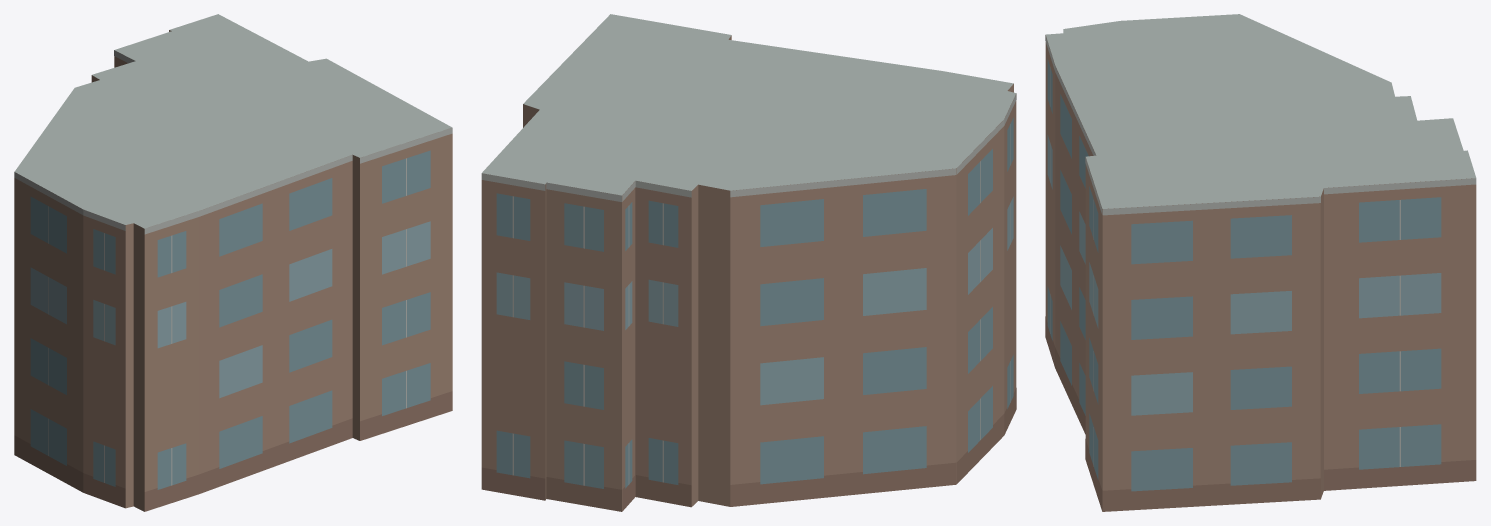
Rendered from survey-upis-33041925.glb.
The picture shows the model from 3 angles, left to right: view 1: azimuth 30°, elevation 25°; view 2: azimuth 150°, elevation 25°; view 3: azimuth 270°, elevation 25°; orthographic projection. The views are drawn at different scales.
Parts seen in each view (by area): view 1: survey-upis-33041925.tmp; view 2: survey-upis-33041925.tmp; view 3: survey-upis-33041925.tmp.
Part boxes in pixels (x1=…): survey-upis-33041925.tmp: x1=14, y1=14, x2=452, y2=511; survey-upis-33041925.tmp: x1=481, y1=14, x2=1016, y2=511; survey-upis-33041925.tmp: x1=1045, y1=14, x2=1476, y2=511.
Size of the model in its own units: 16.04 by 11.6 by 14.97.
